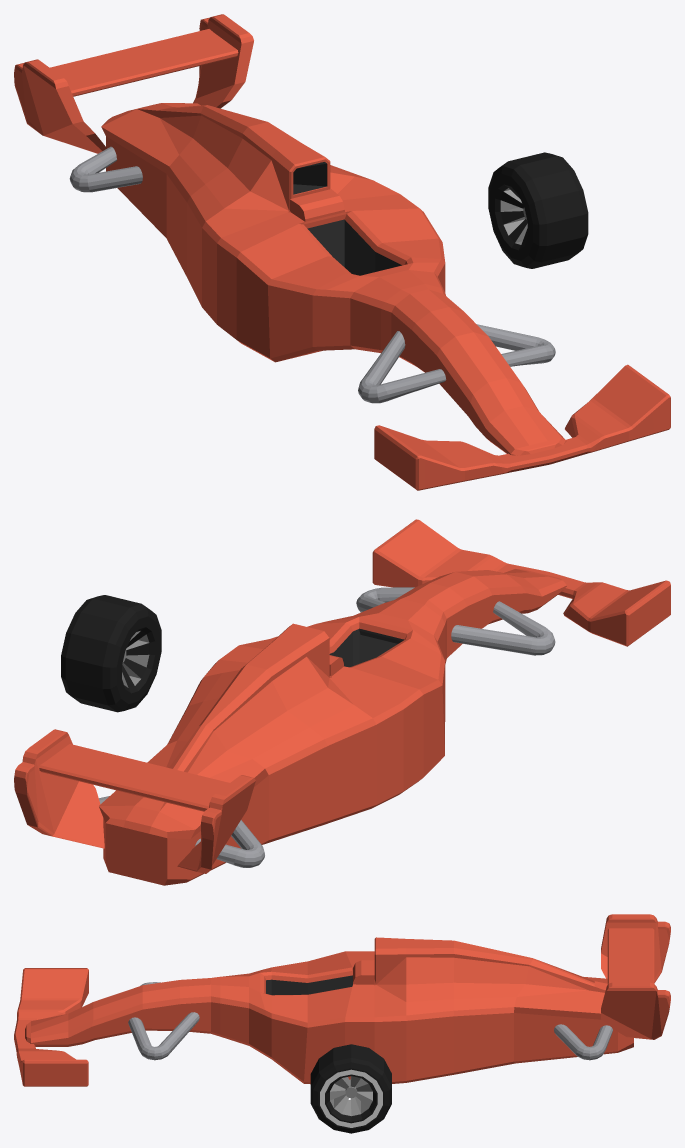
File: car2.fbx
The picture shows the model from 3 angles, top to bottom: view 1: azimuth 30°, elevation 25°; view 2: azimuth 150°, elevation 25°; view 3: azimuth 270°, elevation 25°; orthographic projection. The views are drawn at different scales.
Parts seen in each view (by area): view 1: Car, Wheel; view 2: Car, Wheel; view 3: Car, Wheel.
Boxes of the visible parts, left/top/right/bottom form: Car: left=14, top=14, right=670, bottom=490; Wheel: left=488, top=152, right=588, bottom=268; Car: left=14, top=519, right=670, bottom=885; Wheel: left=61, top=595, right=161, bottom=712; Car: left=14, top=914, right=670, bottom=1086; Wheel: left=310, top=1044, right=391, bottom=1133.
Size of the model in its own units: 226 by 86.28 by 465.
